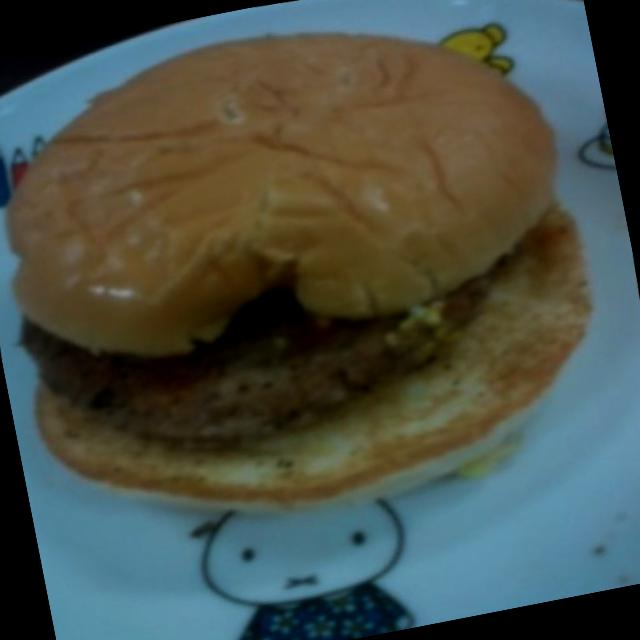Hamburger: (0, 0, 627, 563)
